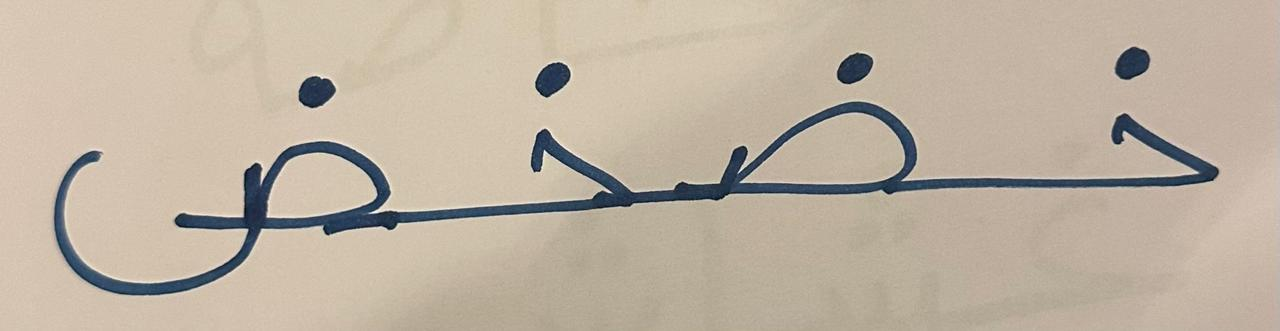dad: (25, 17, 405, 305), (643, 12, 950, 270)
lam: (954, 4, 1263, 267), (409, 14, 640, 269)
